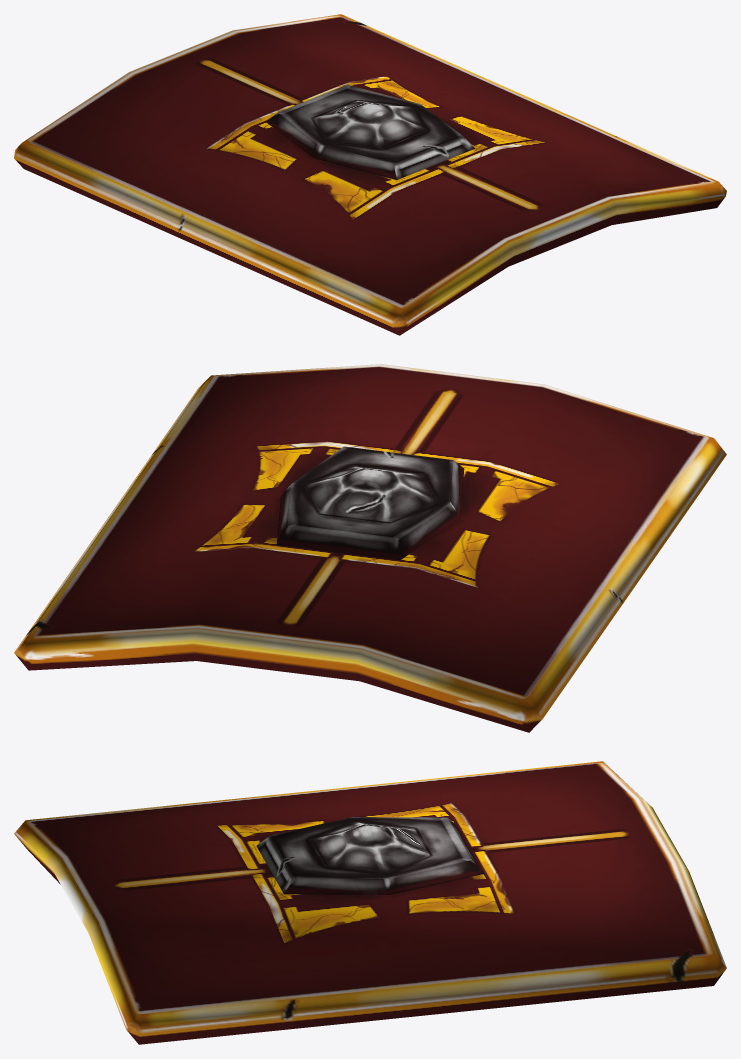
File: ShieldB.fbx
The picture shows the model from 3 angles, top to bottom: view 1: azimuth 30°, elevation 25°; view 2: azimuth 150°, elevation 25°; view 3: azimuth 270°, elevation 25°; orthographic projection. The views are drawn at different scales.
Visible parts, largest first — view 1: ShieldB; view 2: ShieldB; view 3: ShieldB.
Boxes of the visible parts, bbox=[...] form: ShieldB: bbox=[14, 14, 726, 335]; ShieldB: bbox=[14, 364, 726, 732]; ShieldB: bbox=[14, 761, 726, 1044].
Bounding box in the file's own units: 17.34 × 3.9 × 19.67.
